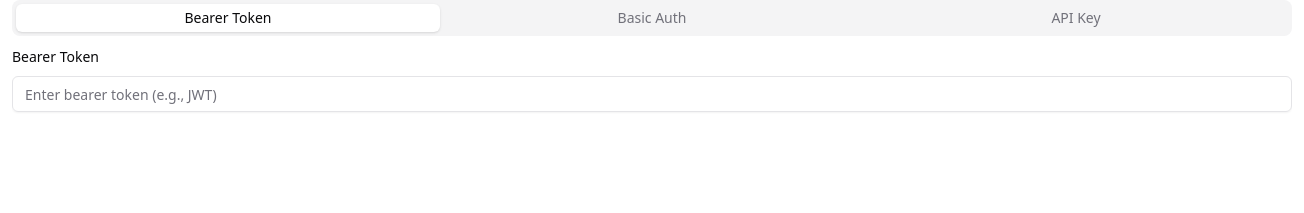
AuthTab › should render Basic Auth panel when selected
This screenshot has width=1304, height=213.
Click the tab "Basic Auth" at {"x": 652, "y": 18}, box [440,4,864,32]
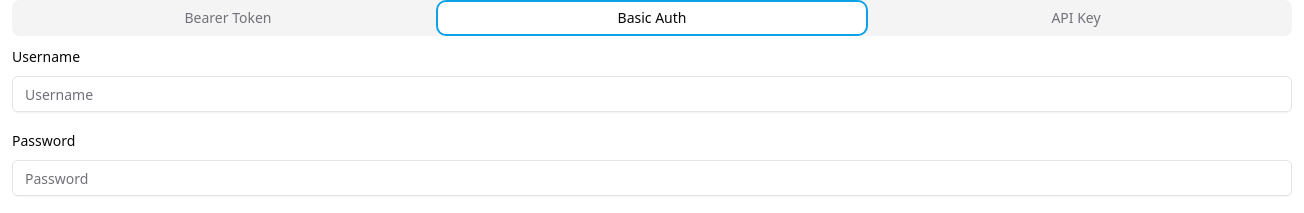
Expected: the field with placeholder "Username" is shown, [12,76,1292,112]
Expected: the password field with placeholder "Password" is shown, [12,160,1292,196]
